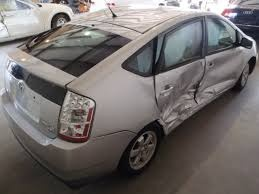Broken-glass: (55, 92, 96, 142)
Dent: (153, 49, 245, 130)
